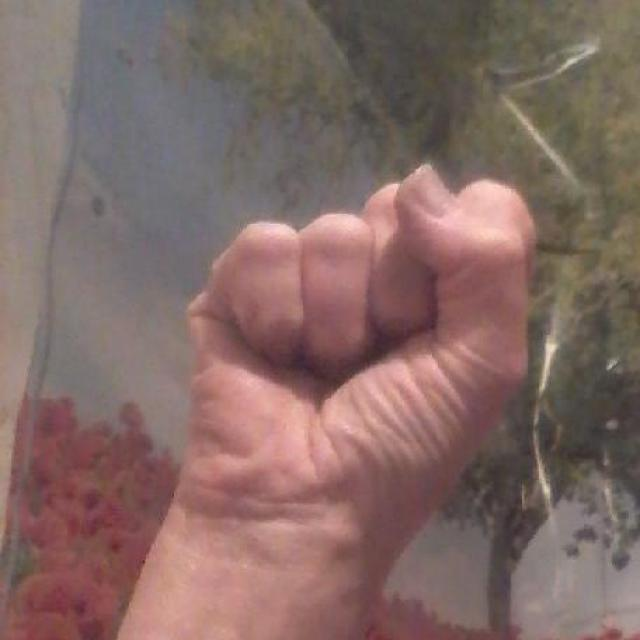hand: (113, 160, 538, 639)
